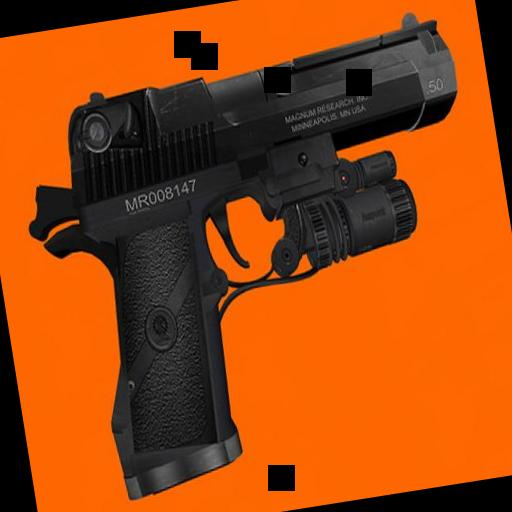Handgun: (2, 6, 512, 510)
